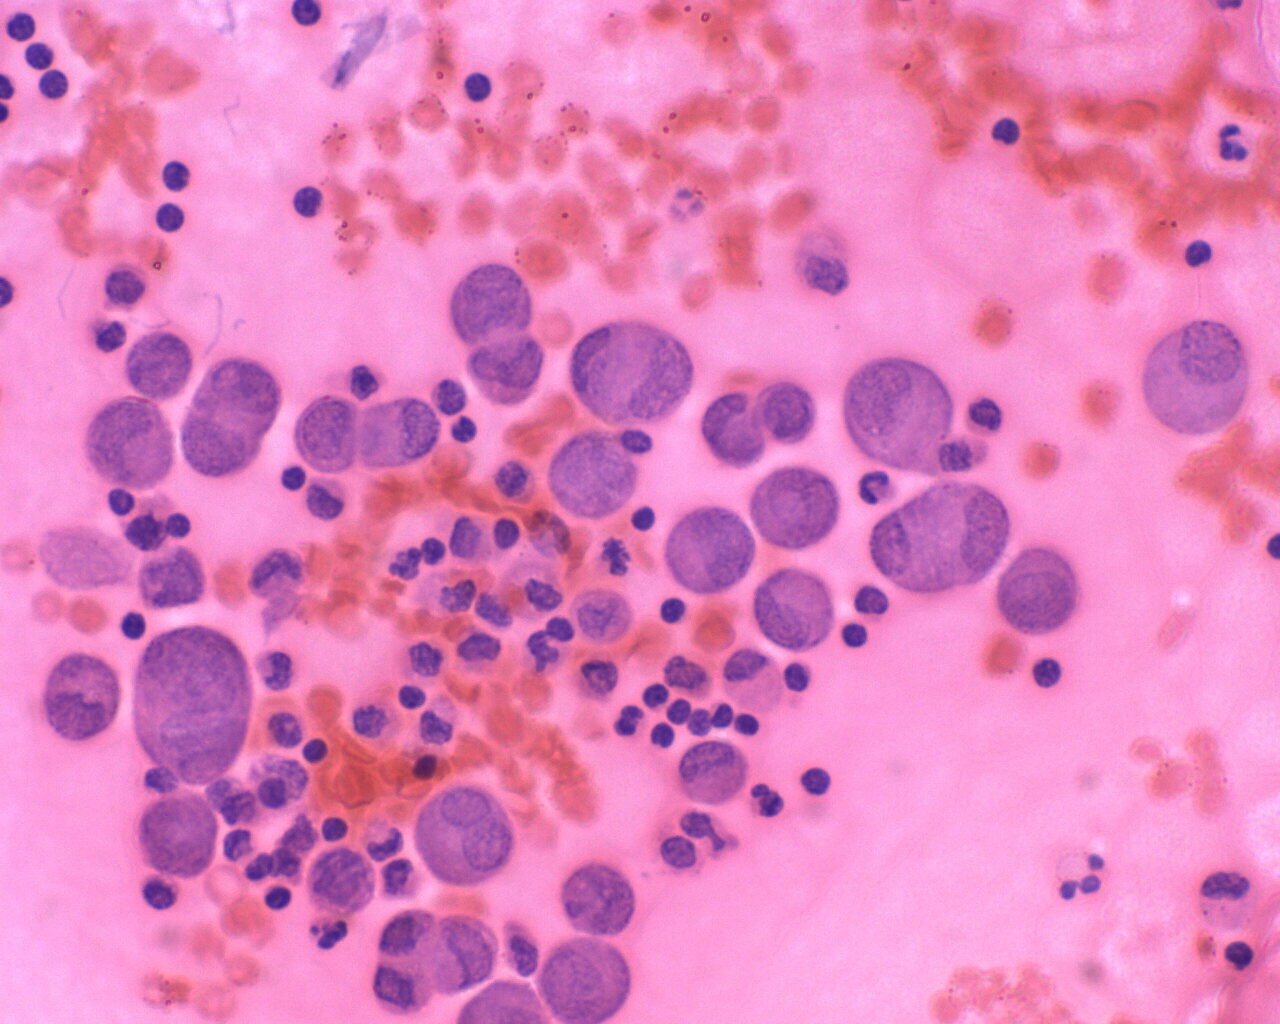ab: (127, 620, 256, 788), (572, 311, 693, 430), (837, 359, 957, 466), (186, 353, 280, 478), (412, 786, 519, 884), (33, 643, 125, 745), (86, 395, 179, 493), (546, 430, 638, 529), (994, 542, 1080, 639), (662, 506, 754, 597), (749, 460, 842, 550), (751, 563, 838, 656), (534, 942, 632, 1023), (449, 259, 541, 345), (464, 334, 551, 410), (294, 391, 363, 478), (126, 330, 197, 400), (752, 376, 816, 450)
lymph: (149, 197, 197, 237), (284, 178, 327, 220), (460, 69, 504, 109), (1027, 652, 1067, 692), (159, 158, 199, 197), (798, 760, 837, 798), (297, 734, 333, 771), (21, 40, 59, 71), (258, 885, 298, 914)
neutro: (1213, 117, 1265, 172), (859, 462, 897, 507)
